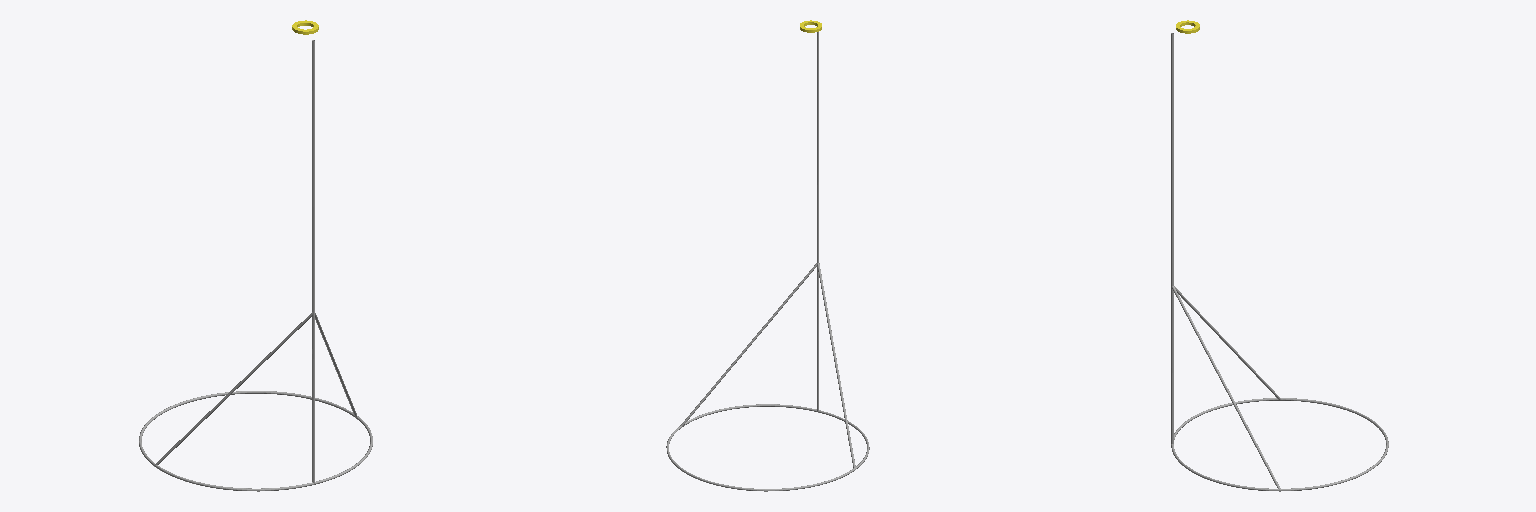
The robot description file, URDF, robot "ObjectCableSystem":
<?xml version="1.0"?>
<robot name="ObjectCableSystem">

  <link name="base_link">
    <inertial>
      <mass value="0.0001"/>
      <origin xyz="0.0 0.0 0.0"/>
      <inertia ixx="1e-10" ixy="0." ixz="0." iyy="1e-10" iyz="0." izz="1e-10"/>
    </inertial>
  </link>

  <link name="base_x_link">
    <inertial>
      <mass value="0.0001"/>
      <origin xyz="0.0 0.0 0.0"/>
      <inertia ixx="1e-10" ixy="0." ixz="0." iyy="1e-10" iyz="0." izz="1e-10"/>
    </inertial>
  </link>

  <link name="base_y_link">
    <inertial>
      <mass value="0.0001"/>
      <origin xyz="0.0 0.0 0.0"/>
      <inertia ixx="1e-10" ixy="0." ixz="0." iyy="1e-10" iyz="0." izz="1e-10"/>
    </inertial>
  </link>

  <link name="end_effector_link">
    <inertial>
      <mass value="0.0001"/>
      <origin xyz="0.0 0.0 0.0"/>
      <inertia ixx="1e-10" ixy="0." ixz="0." iyy="1e-10" iyz="0." izz="1e-10"/>
    </inertial>
        <visual>
      <origin rpy="0 0 0" xyz="0 0 0"/>
      <geometry>
        <mesh filename="mesh/end_effector.obj"/>
      </geometry>
    </visual>
  </link>

  <link name="cable_x_link">
    <inertial>
      <mass value="0.0001"/>
      <origin xyz="0.0 0.0 0.0"/>
      <inertia ixx="1e-10" ixy="0." ixz="0." iyy="1e-10" iyz="0." izz="1e-10"/>
    </inertial>
  </link>

  <link name="cable_y_link">
    <inertial>
      <mass value="0.0001"/>
      <origin xyz="0.0 0.0 0.0"/>
      <inertia ixx="1e-10" ixy="0." ixz="0." iyy="1e-10" iyz="0." izz="1e-10"/>
    </inertial>
  </link>

  <link name="cable_z_link">
    <inertial>
      <mass value="0.0001"/>
      <origin xyz="0.0 0.0 0.0"/>
      <inertia ixx="1e-10" ixy="0." ixz="0." iyy="1e-10" iyz="0." izz="1e-10"/>
    </inertial>
  </link>

  <link name="object">
    <inertial>
      <mass value="1.04"/>
      <!-- <mass value="1.80"/> -->
      <origin xyz="0.0 -0.15 0.29"/>
      <inertia ixx="0.21" ixy="0." ixz="0." iyy="0.20" iyz="-0.05" izz="0.09"/>
    </inertial>

    <contact>
      <lateral_friction value="100"/>
      <!-- <rolling_friction value="0.001"/> -->
      <!-- <stiffness value="30000"/> -->
      <!-- <damping value="1000"/> -->
    </contact>

    <visual>
      <origin rpy="0 0 0" xyz="0 0 0"/>
      <geometry>
        <mesh filename="mesh/large_cone.obj"/>
      </geometry>
    </visual>

    <collision>
      <origin rpy="0 0 0" xyz="0 0 0"/>
      <geometry>
        <mesh filename="mesh/large_cone_vhacd.obj"/>
      </geometry>
    </collision>

  </link>

  <!-- active joints for moving the end-effector -->

  <joint name="joint_base_x" type="prismatic">
    <axis xyz="1 0 0"/>
    <parent link="base_link"/>
    <child link="base_x_link"/>
    <limit lower="-100" upper="100"/>
  </joint>

  <joint name="joint_base_y" type="prismatic">
    <axis xyz="0 1 0"/>
    <parent link="base_x_link"/>
    <child link="base_y_link"/>
    <limit lower="-100" upper="100"/>
  </joint>

  <joint name="joint_base_z" type="prismatic">
    <axis xyz="0 0 1"/>
    <parent link="base_y_link"/>
    <child link="end_effector_link"/>
    <limit lower="0." upper="100"/>
  </joint>

  <!-- passive joints equivalent to a cable -->

  <joint name="joint_cable_x" type="revolute">
    <axis xyz="1 0 0"/>
    <parent link="end_effector_link"/>
    <child link="cable_x_link"/>
    <limit lower="-3.14" upper="3.14"/>
  </joint>

  <joint name="joint_cable_y" type="revolute">
    <axis xyz="0 1 0"/>
    <parent link="cable_x_link"/>
    <child link="cable_y_link"/>
    <limit lower="-3.14" upper="3.14"/>
  </joint>

  <joint name="joint_cable_z" type="revolute">
    <axis xyz="0 0 1"/>
    <parent link="cable_y_link"/>
    <child link="cable_z_link"/>
    <limit lower="-3.14" upper="3.14"/>
  </joint>

  <joint name="joint_cable_tether" type="prismatic">
    <origin xyz="0 0.3 -1.5"/>
    <axis xyz="0 0 1"/>
    <parent link="cable_z_link"/>
    <child link="object"/>
    <limit lower="-1.0" upper="1.0"/>
  </joint>

</robot>

--- Facts derived from the render (not from the file) ---
Views: 3 orthographic renders of the robot side by side, from view 1: azimuth 30°, elevation 25°; view 2: azimuth 150°, elevation 25°; view 3: azimuth 270°, elevation 25°.
Robot: ObjectCableSystem — 8 links, 7 joints (3 revolute, 4 prismatic); root link base_link; default pose: every joint at zero.
Links seen in each view (by area): view 1: object; view 2: object; view 3: object.
Link boxes in pixels (<box>): object: <box>139,40,372,491</box>; object: <box>666,32,869,491</box>; object: <box>1171,33,1388,491</box>.
Size in the robot's own frame: 0.709 by 0.709 by 1.51 metres.
2 mesh visuals loaded from 2 distinct referenced files (2 OBJ).
